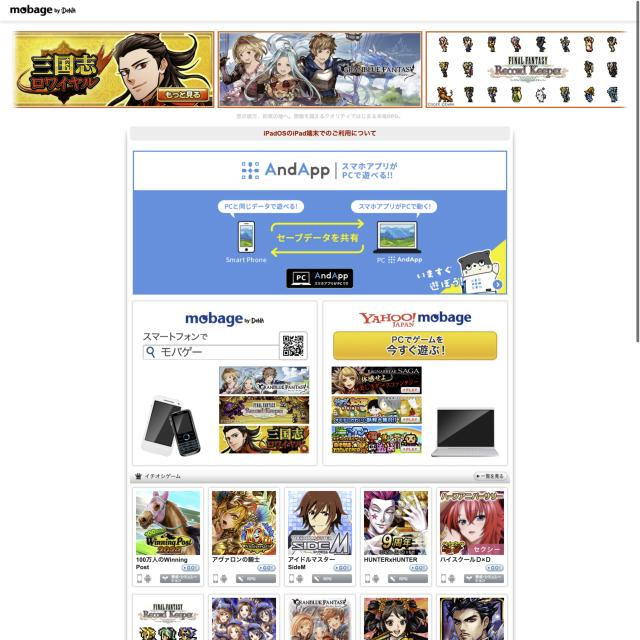CheckBox: (409, 564, 428, 572), (182, 564, 200, 572)
ImageView: (132, 150, 508, 294)
RadioButton: (160, 574, 200, 584), (236, 574, 276, 583), (312, 574, 352, 583), (388, 574, 428, 583), (464, 574, 504, 583)
Spinner: (322, 299, 507, 466), (132, 299, 316, 466)
carousel: (144, 574, 152, 584), (136, 573, 143, 584)
copy: (10, 31, 214, 108), (218, 31, 422, 108), (426, 30, 625, 108), (288, 490, 352, 556), (440, 490, 504, 555), (136, 491, 200, 555), (212, 491, 276, 555), (364, 491, 428, 555)
data feed: (363, 556, 418, 562)
date picker: (6, 2, 78, 16)
